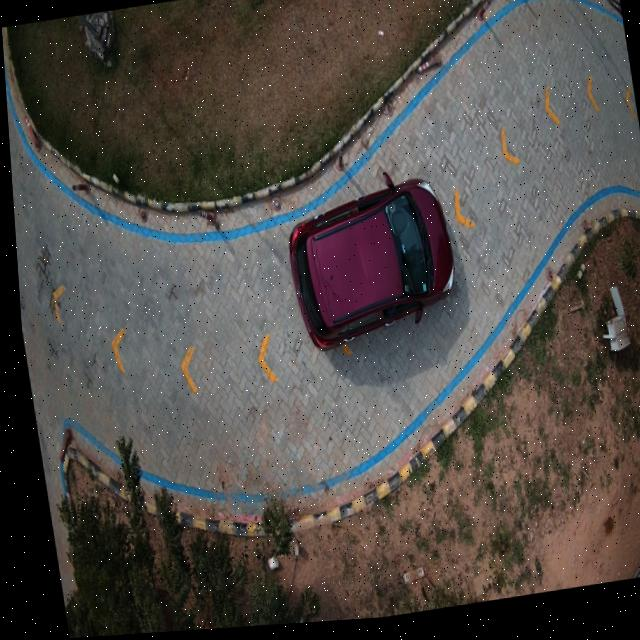car: (285, 178, 450, 352)
